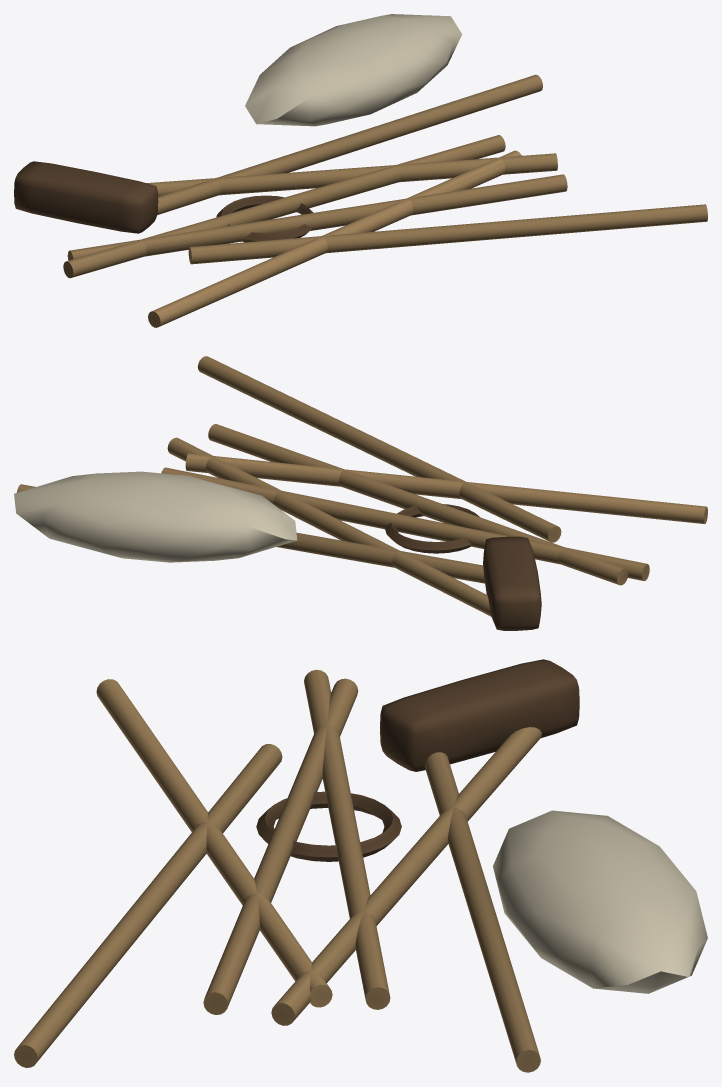
The model's file is spar_bundle_b.glb.
The picture shows the model from 3 angles, top to bottom: view 1: azimuth 30°, elevation 25°; view 2: azimuth 150°, elevation 25°; view 3: azimuth 270°, elevation 25°; orthographic projection. The views are drawn at different scales.
Parts seen in each view (by area): view 1: Surface; view 2: Surface; view 3: Surface.
Boxes of the visible parts, x1,y1,x2,y2 form: Surface: (14,14,707,327); Surface: (14,356,707,630); Surface: (14,659,707,1072).
Size of the model in its own units: 2.99 by 0.4035 by 2.3.
